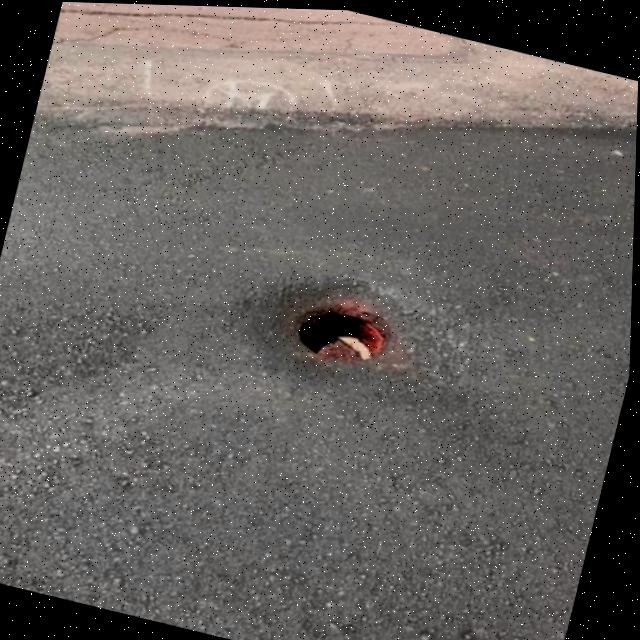Pothole: (251, 255, 434, 394)
